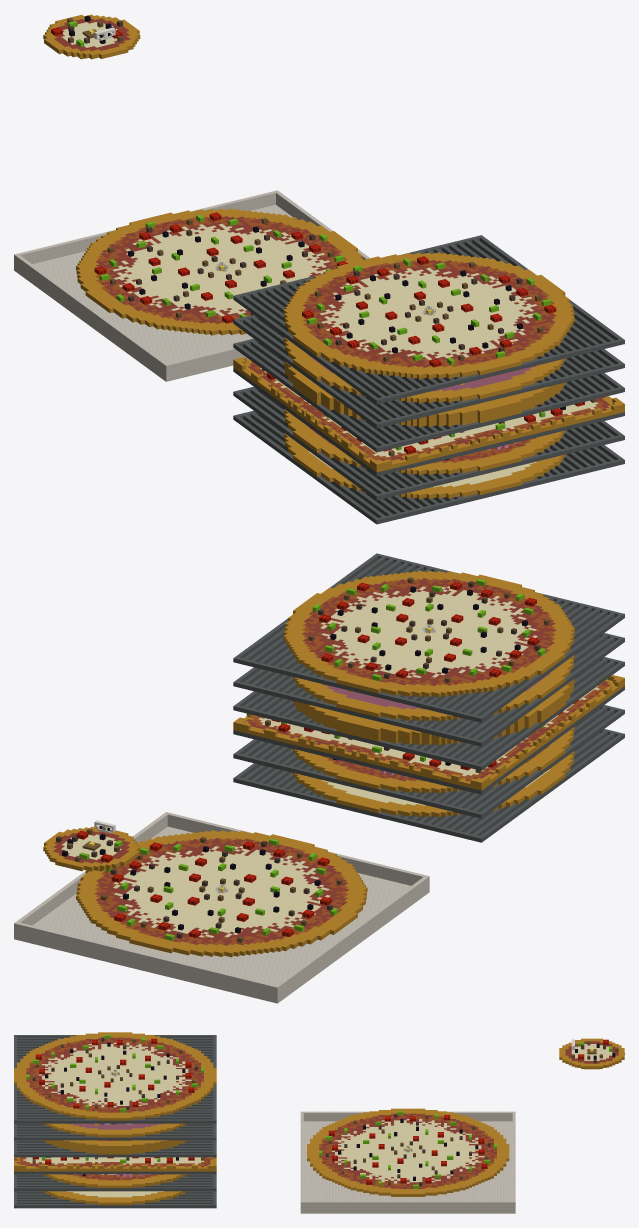
Rendered from minecraft.obj.
3 views of the same model, one above another, from view 1: azimuth 30°, elevation 25°; view 2: azimuth 150°, elevation 25°; view 3: azimuth 270°, elevation 25° (orthographic). The views are drawn at different scales.
Size of the model in its own units: 69 by 45.5 by 196.
